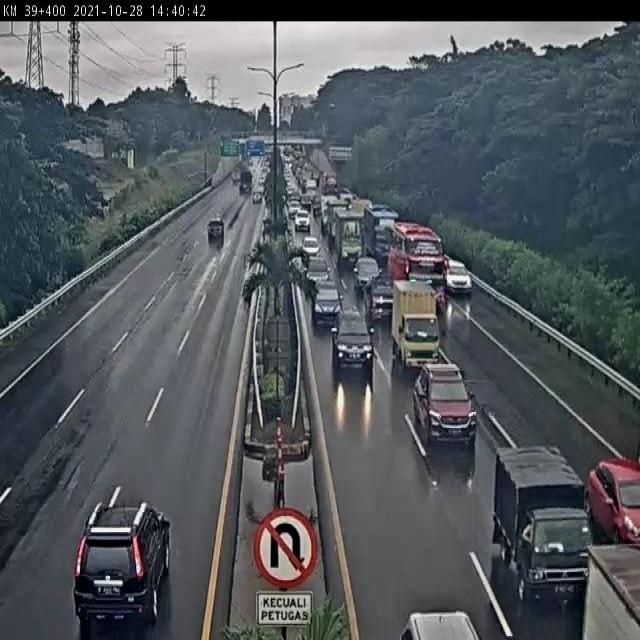Bus: (388, 223, 444, 312)
Car: (67, 507, 178, 634), (412, 365, 478, 443), (586, 459, 640, 540), (330, 311, 376, 378), (390, 609, 479, 640), (312, 284, 344, 329), (352, 253, 380, 293), (303, 258, 332, 290), (446, 261, 470, 290), (302, 234, 322, 258), (206, 216, 224, 242), (292, 211, 312, 234), (252, 189, 264, 202)
Truck: (493, 447, 587, 604), (585, 548, 640, 640), (392, 280, 441, 374), (364, 207, 399, 267), (336, 213, 365, 273), (239, 168, 254, 195)
